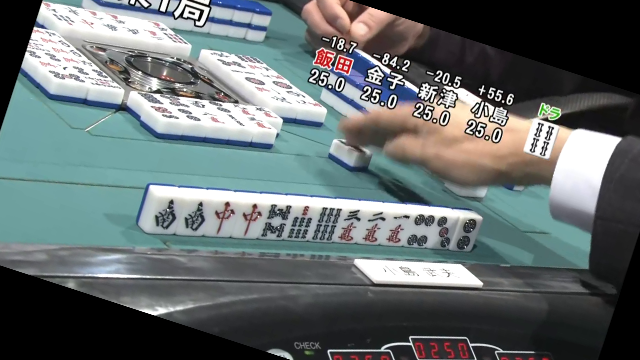Tehai: (135, 186, 488, 256)
